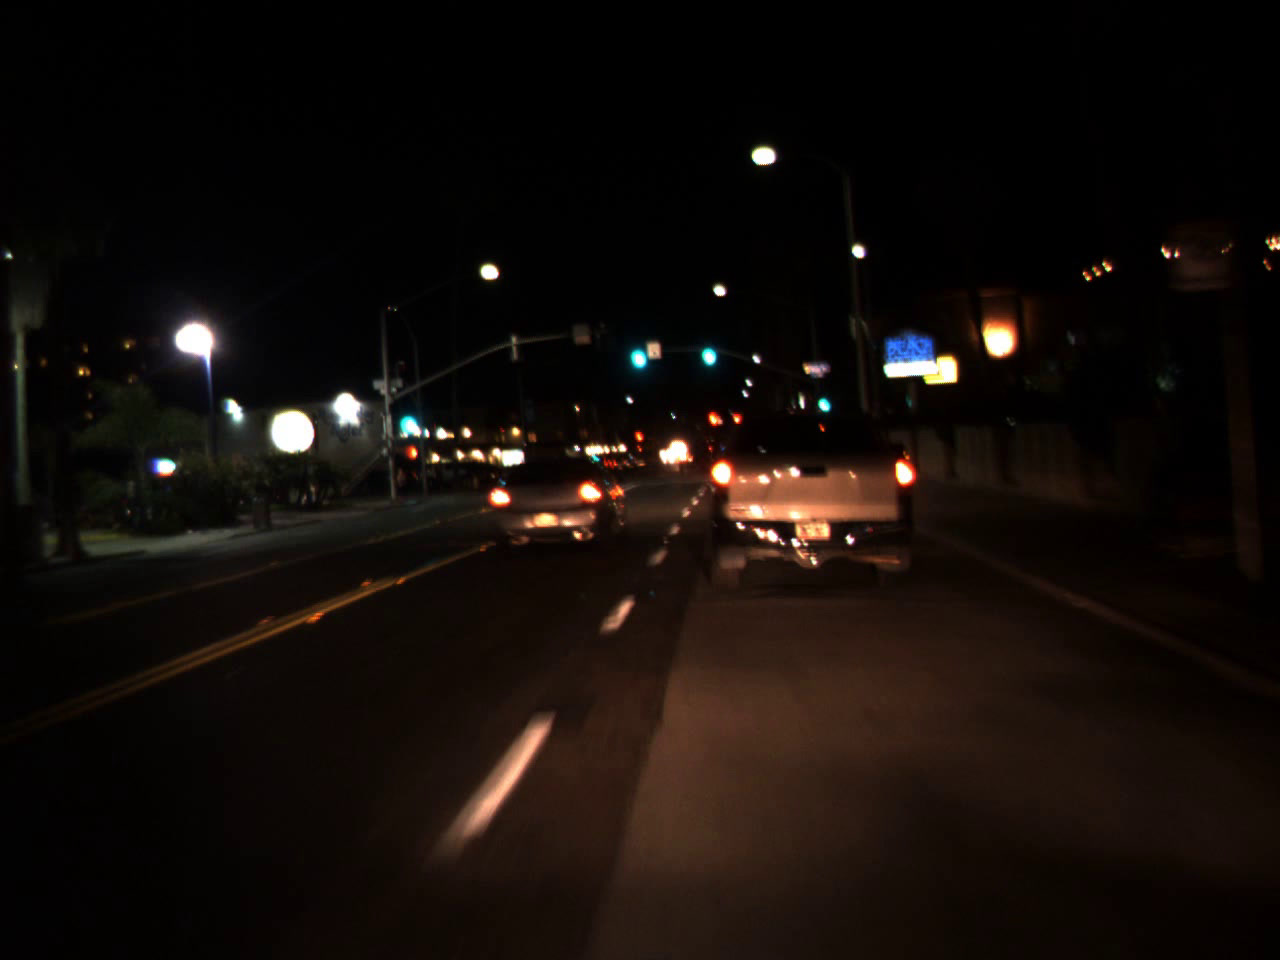go: (625, 327, 650, 375), (695, 326, 720, 371), (393, 397, 420, 436), (815, 381, 833, 417)
